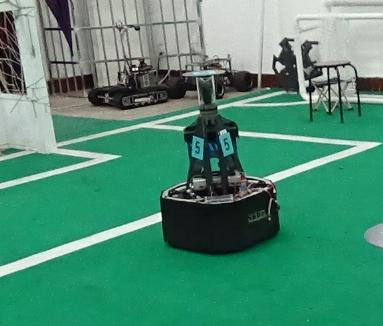robot: (160, 71, 283, 257)
